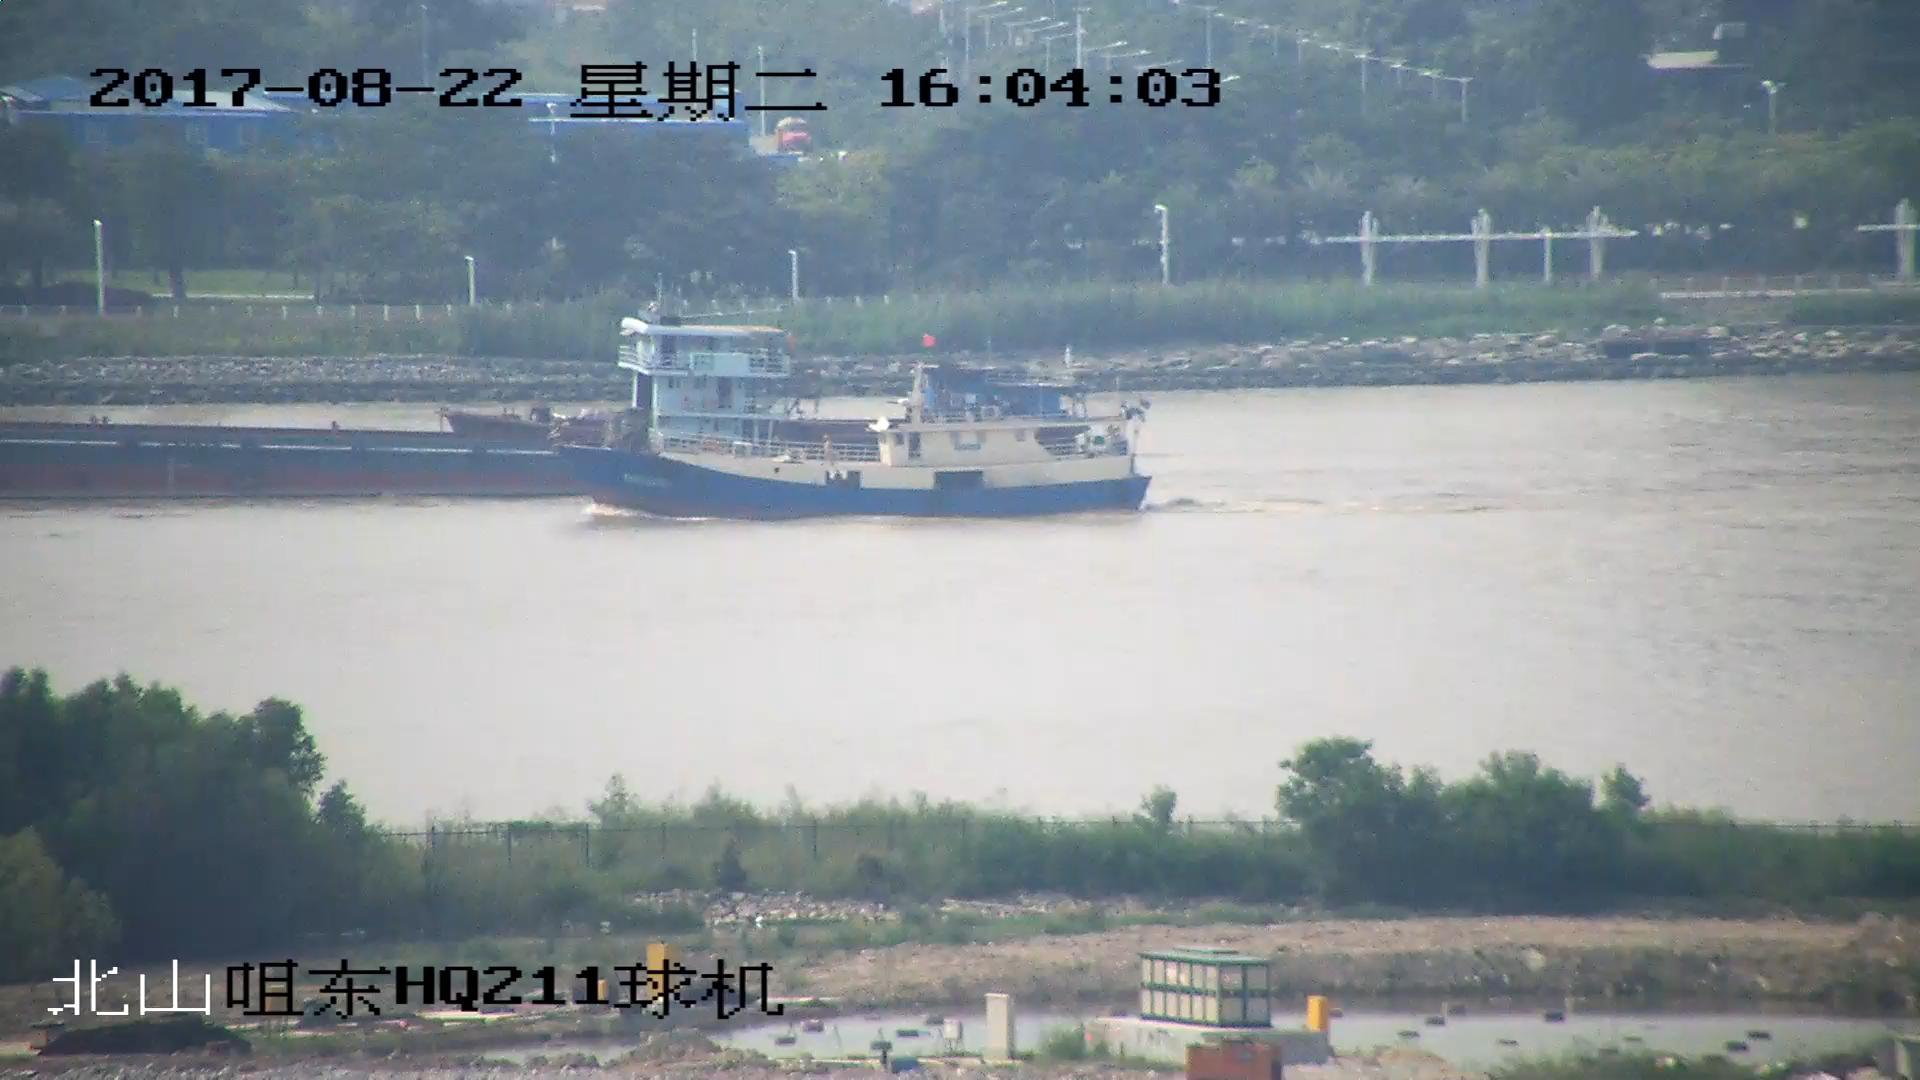Ship: (3, 311, 794, 509), (568, 336, 1149, 526)
